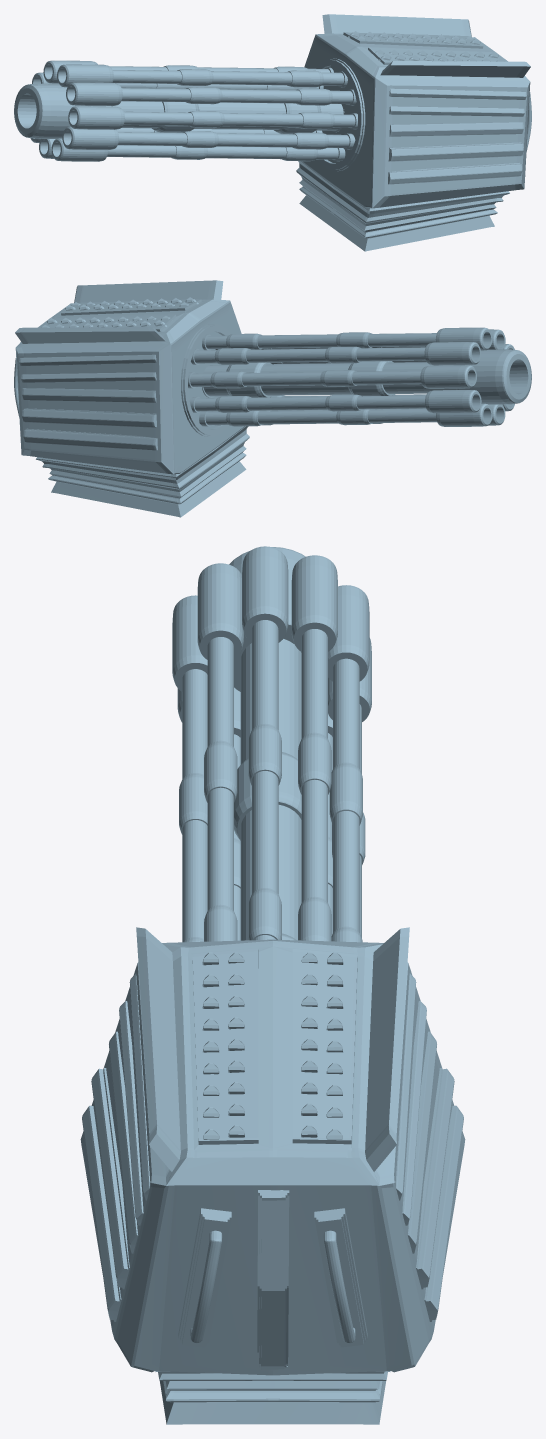
Rendered from cañonPrincip (2).fbx.
3 renders of one model, top to bottom at view 1: azimuth 30°, elevation 25°; view 2: azimuth 150°, elevation 25°; view 3: azimuth 270°, elevation 25°, orthographic. The views are drawn at different scales.
Visible parts, largest first — view 1: Cube.006; view 2: Cube.006; view 3: Cube.006.
Part boxes in pixels (x1=…): Cube.006: x1=14, y1=14, x2=531, y2=251; Cube.006: x1=14, y1=280, x2=531, y2=517; Cube.006: x1=80, y1=546, x2=465, y2=1424.
Bounding box in the file's own units: 417 × 195 × 141.
